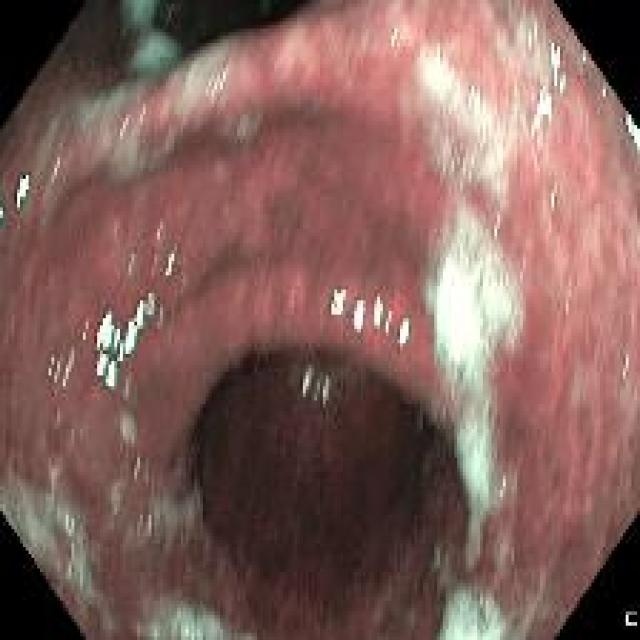blur: (6, 15, 635, 627)
bubbles: (432, 210, 520, 568), (415, 42, 527, 208), (2, 464, 107, 613), (74, 85, 168, 175), (110, 0, 186, 72), (132, 487, 204, 553), (130, 588, 228, 636), (434, 582, 509, 639), (114, 408, 145, 446)
contrast: (191, 356, 440, 560)
saturation: (433, 258, 486, 364)
specularity: (102, 300, 145, 392), (44, 348, 79, 391), (545, 38, 570, 96), (529, 85, 556, 136), (14, 170, 37, 223), (328, 283, 347, 330), (548, 173, 565, 219), (353, 293, 370, 337), (395, 316, 415, 352), (524, 15, 543, 50), (623, 112, 638, 149), (162, 249, 179, 280), (490, 209, 502, 249), (298, 363, 312, 395), (375, 290, 385, 334), (205, 73, 222, 96), (145, 291, 158, 318), (576, 49, 588, 77), (384, 308, 393, 342), (322, 375, 331, 407), (118, 106, 128, 134), (131, 458, 143, 481), (388, 23, 399, 46), (499, 473, 510, 496), (79, 321, 91, 341), (64, 513, 74, 536), (178, 624, 194, 638), (50, 154, 59, 176), (220, 66, 228, 88), (624, 350, 629, 384), (602, 83, 608, 102)
